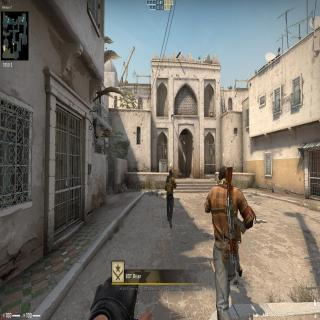T-Head: (217, 165, 227, 182), (169, 169, 173, 177)
